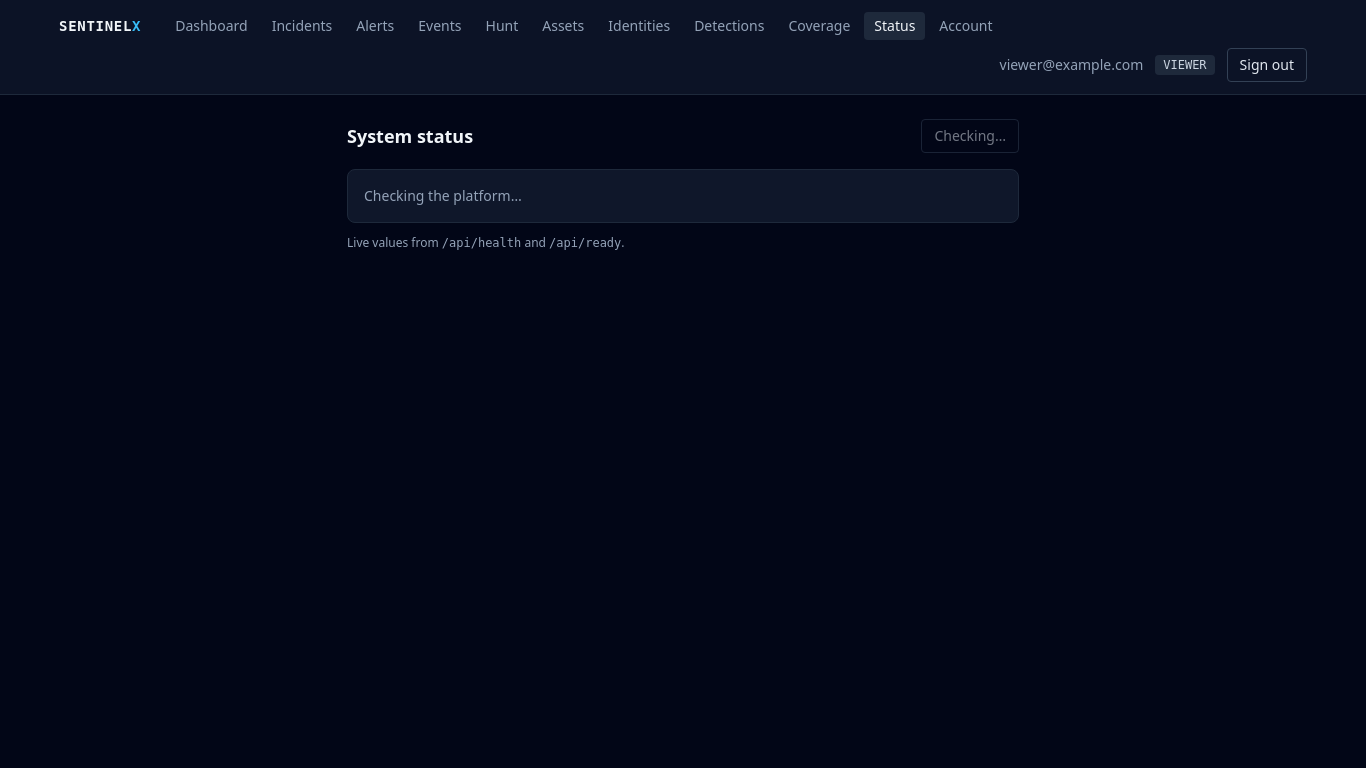
Sign-in › signs out, telling the server to end the session
Click the button "Sign out".
click(1267, 65)  # box [1227, 48, 1307, 82]
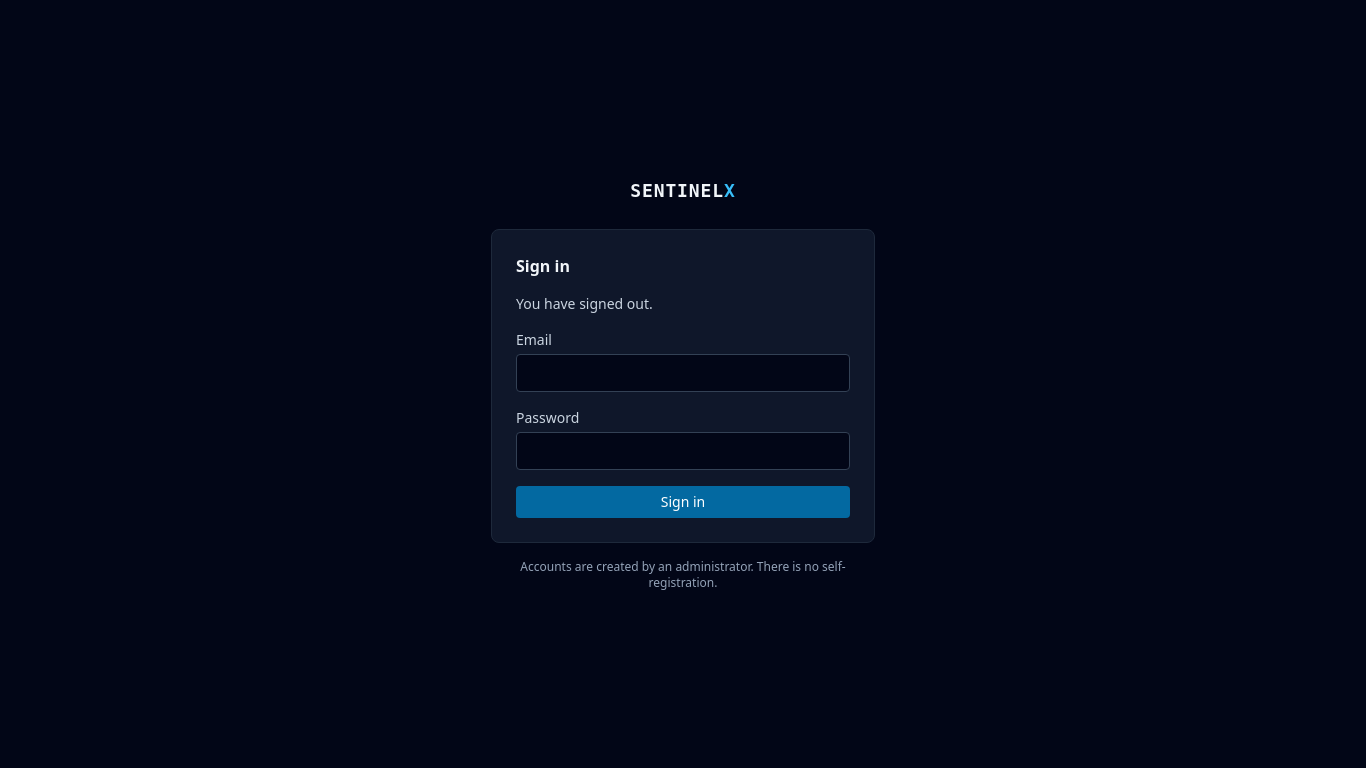
Expected: the text "You have signed out." is shown, [516, 294, 653, 313]
